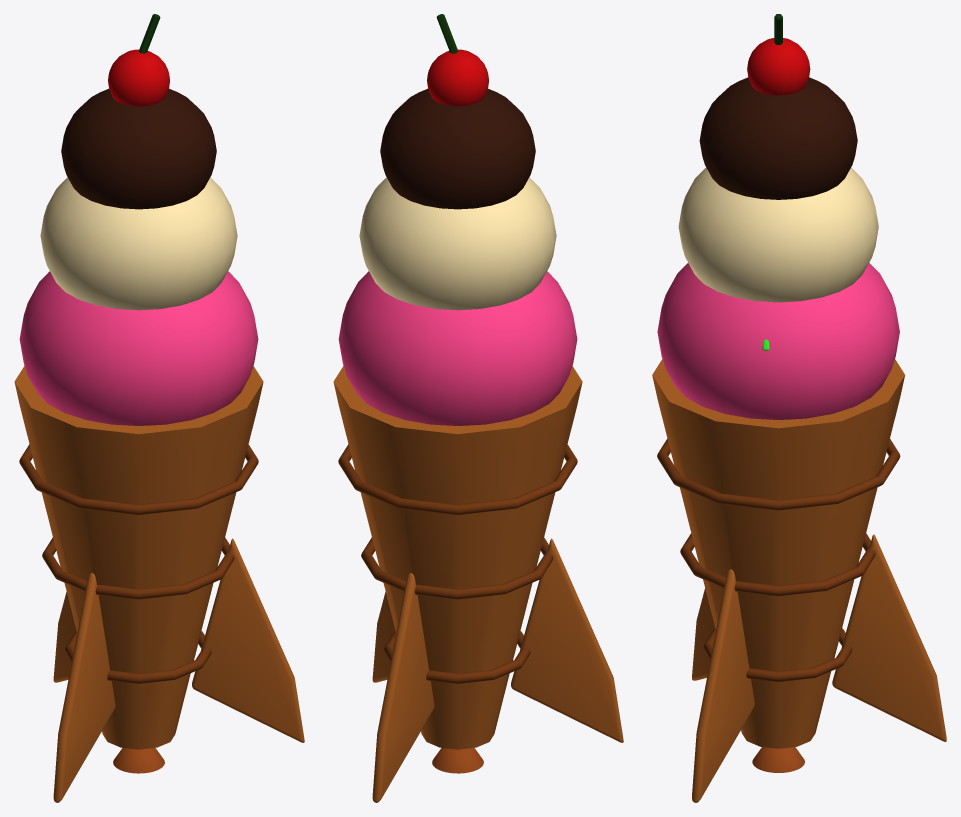
File: Rocket_10_IceCream.obj
3 views of the same model, side by side, from view 1: azimuth 30°, elevation 25°; view 2: azimuth 150°, elevation 25°; view 3: azimuth 270°, elevation 25° (orthographic).
Parts seen in each view (by area): view 1: R10_Cone, R10_ScoopPink, R10_ScoopVanilla, R10_ScoopChoco, R10_WaferFin_3, R10_WaferFin_2, R10_WaferLine_3, R10_Cherry, R10_WaferLine_2, R10_WaferLine, R10_WaferFin, R10_WaferTip; view 2: R10_Cone, R10_ScoopPink, R10_ScoopVanilla, R10_ScoopChoco, R10_WaferFin_2, R10_WaferFin, R10_WaferLine_3, R10_Cherry, R10_WaferLine_2, R10_WaferLine, R10_WaferFin_3, R10_WaferTip; view 3: R10_Cone, R10_ScoopPink, R10_ScoopVanilla, R10_ScoopChoco, R10_WaferFin, R10_WaferFin_3, R10_WaferLine_3, R10_Cherry, R10_WaferLine_2, R10_WaferLine, R10_WaferFin_2, R10_WaferTip.
Boxes of the visible parts, x1=… form: R10_Cone: x1=14, y1=366, x2=263, y2=749; R10_ScoopPink: x1=19, y1=271, x2=258, y2=425; R10_ScoopVanilla: x1=40, y1=177, x2=237, y2=310; R10_ScoopChoco: x1=61, y1=88, x2=216, y2=209; R10_WaferFin_3: x1=192, y1=538, x2=304, y2=742; R10_WaferFin_2: x1=53, y1=573, x2=115, y2=802; R10_WaferLine_3: x1=19, y1=444, x2=258, y2=514; R10_Cherry: x1=108, y1=49, x2=169, y2=106; R10_WaferLine_2: x1=42, y1=537, x2=234, y2=599; R10_WaferLine: x1=65, y1=631, x2=211, y2=683; R10_WaferFin: x1=53, y1=592, x2=76, y2=682; R10_WaferTip: x1=113, y1=748, x2=164, y2=773; R10_Cone: x1=333, y1=366, x2=582, y2=749; R10_ScoopPink: x1=338, y1=271, x2=577, y2=425; R10_ScoopVanilla: x1=359, y1=177, x2=556, y2=310; R10_ScoopChoco: x1=380, y1=88, x2=535, y2=209; R10_WaferFin_2: x1=511, y1=538, x2=623, y2=742; R10_WaferFin: x1=372, y1=573, x2=434, y2=802; R10_WaferLine_3: x1=338, y1=444, x2=577, y2=514; R10_Cherry: x1=427, y1=49, x2=488, y2=106; R10_WaferLine_2: x1=361, y1=537, x2=553, y2=599; R10_WaferLine: x1=384, y1=631, x2=530, y2=683; R10_WaferFin_3: x1=372, y1=592, x2=395, y2=682; R10_WaferTip: x1=432, y1=748, x2=483, y2=773; R10_Cone: x1=652, y1=359, x2=904, y2=748; R10_ScoopPink: x1=657, y1=263, x2=899, y2=419; R10_ScoopVanilla: x1=678, y1=167, x2=878, y2=302; R10_ScoopChoco: x1=699, y1=77, x2=857, y2=199; R10_WaferFin: x1=832, y1=534, x2=946, y2=741; R10_WaferFin_3: x1=692, y1=569, x2=754, y2=802; R10_WaferLine_3: x1=657, y1=439, x2=900, y2=510; R10_Cherry: x1=747, y1=38, x2=810, y2=95; R10_WaferLine_2: x1=680, y1=533, x2=875, y2=596; R10_WaferLine: x1=703, y1=628, x2=852, y2=681; R10_WaferFin_2: x1=692, y1=588, x2=714, y2=680; R10_WaferTip: x1=752, y1=747, x2=804, y2=772.
Bounding box in the file's own units: 2.78 × 7.91 × 2.79.
